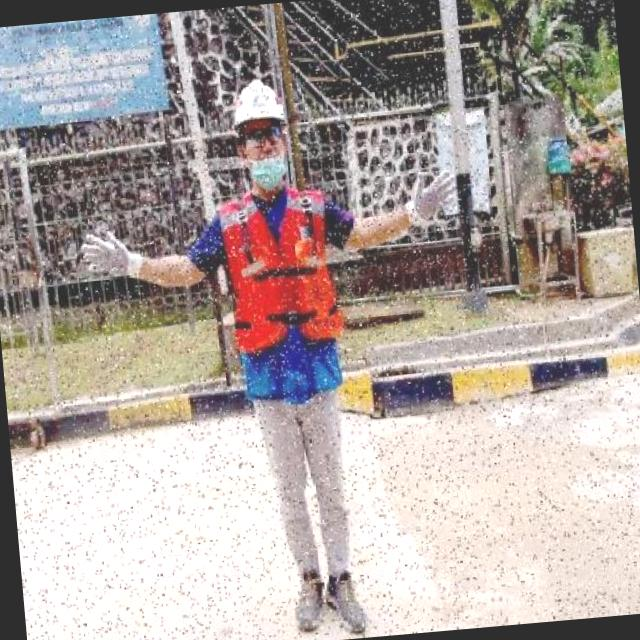boots: (322, 566, 368, 638), (289, 564, 328, 636)
gloves: (74, 198, 164, 308), (408, 156, 478, 252)
helmet: (230, 75, 288, 128)
vest: (210, 176, 359, 408)
